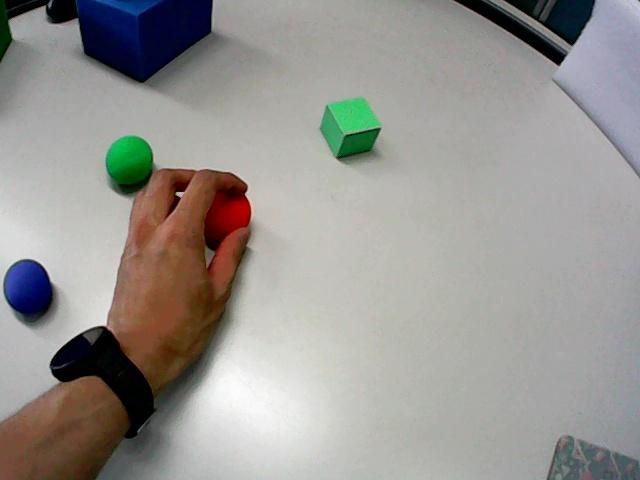blue_block: (77, 0, 212, 81)
